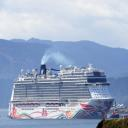cruises: (8, 61, 117, 121)
